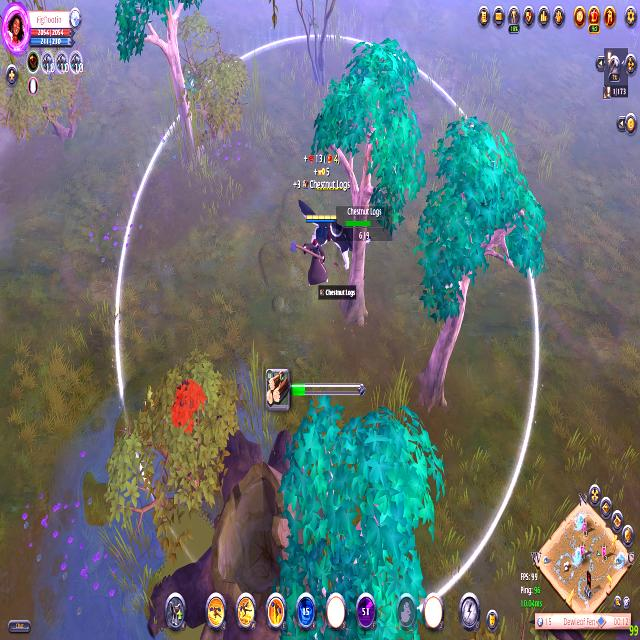hide: (180, 68, 204, 98)
ore: (168, 368, 206, 438)
red: (295, 211, 339, 302)
wisp caged: (415, 111, 544, 421), (280, 402, 440, 640), (310, 34, 428, 338), (109, 0, 217, 177)
